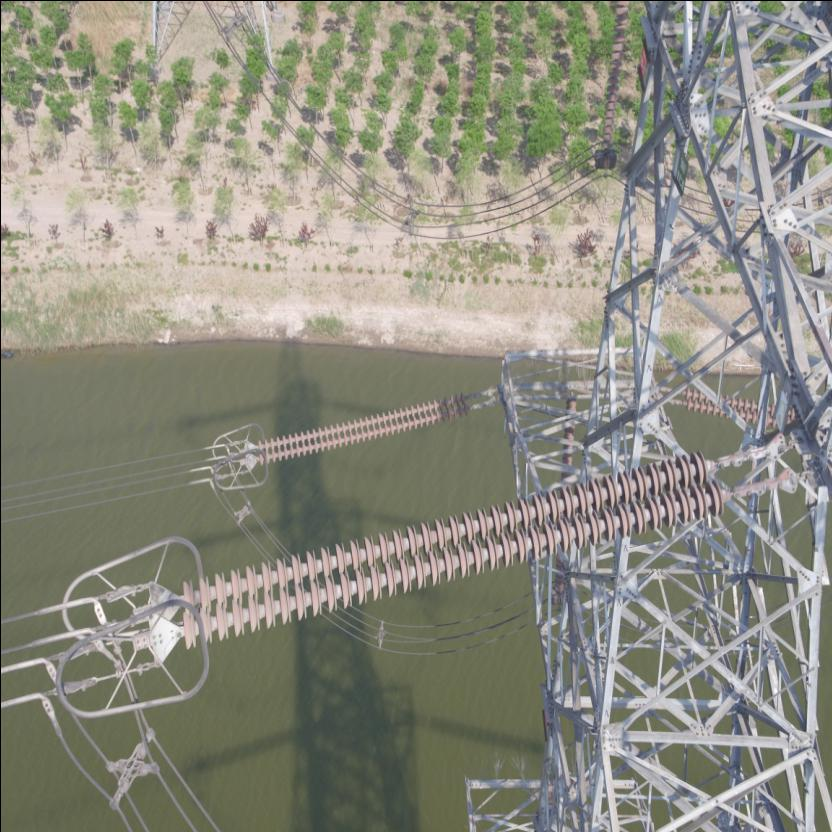insulator: (170, 446, 746, 651), (255, 386, 477, 464)
